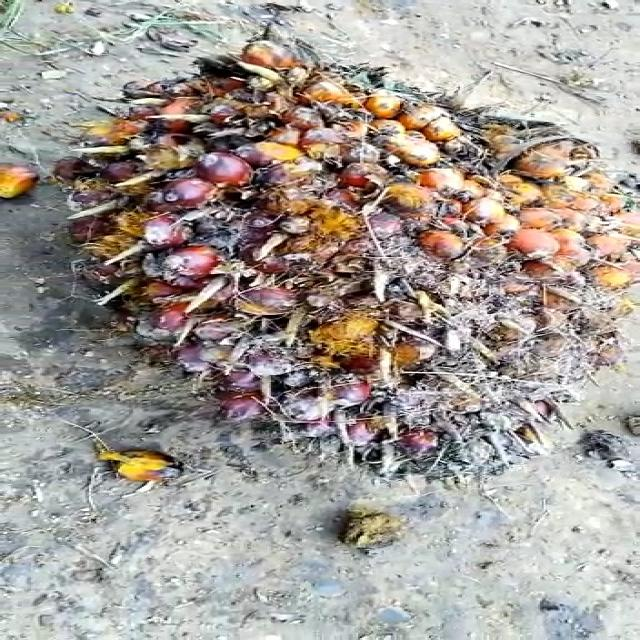palm oil: (70, 27, 640, 500)
